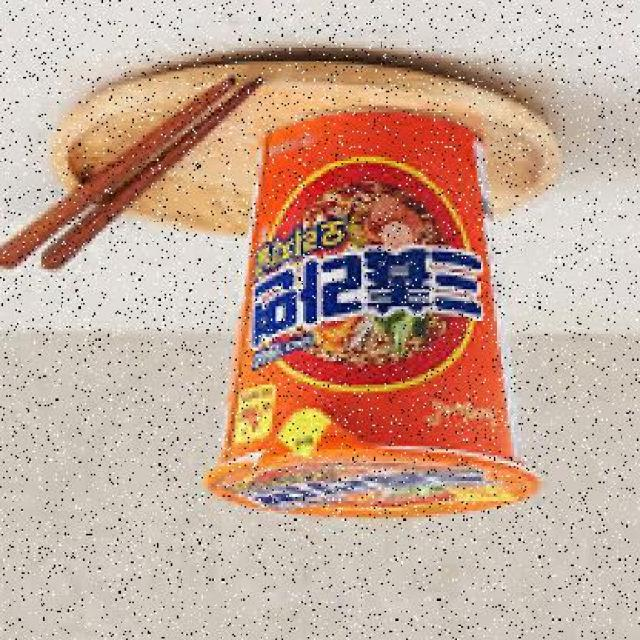Miscellaneous: (210, 103, 548, 540)
